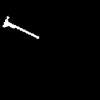half_double_crochet: (3, 17, 38, 38)
